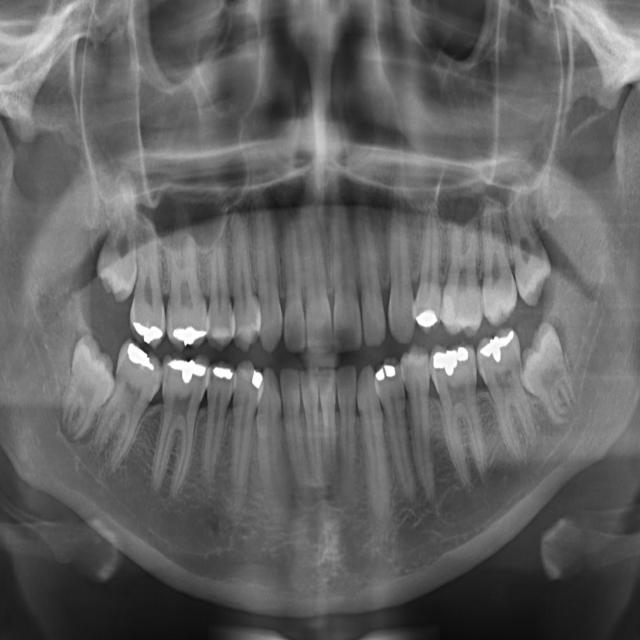AmalgamRestoration: (123, 336, 158, 381), (166, 351, 208, 383), (433, 342, 469, 379), (481, 331, 515, 365), (174, 318, 208, 349), (132, 316, 165, 346), (416, 301, 439, 332), (374, 362, 397, 383), (212, 365, 236, 382), (248, 368, 264, 389)
CompositeResinRestoration: (439, 292, 459, 332)
DentalCaries: (148, 370, 161, 398), (161, 366, 172, 396), (207, 375, 219, 396)
ImpactedTooth: (68, 321, 116, 446), (522, 330, 576, 424)
